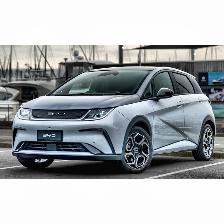EV: (13, 65, 218, 174)
